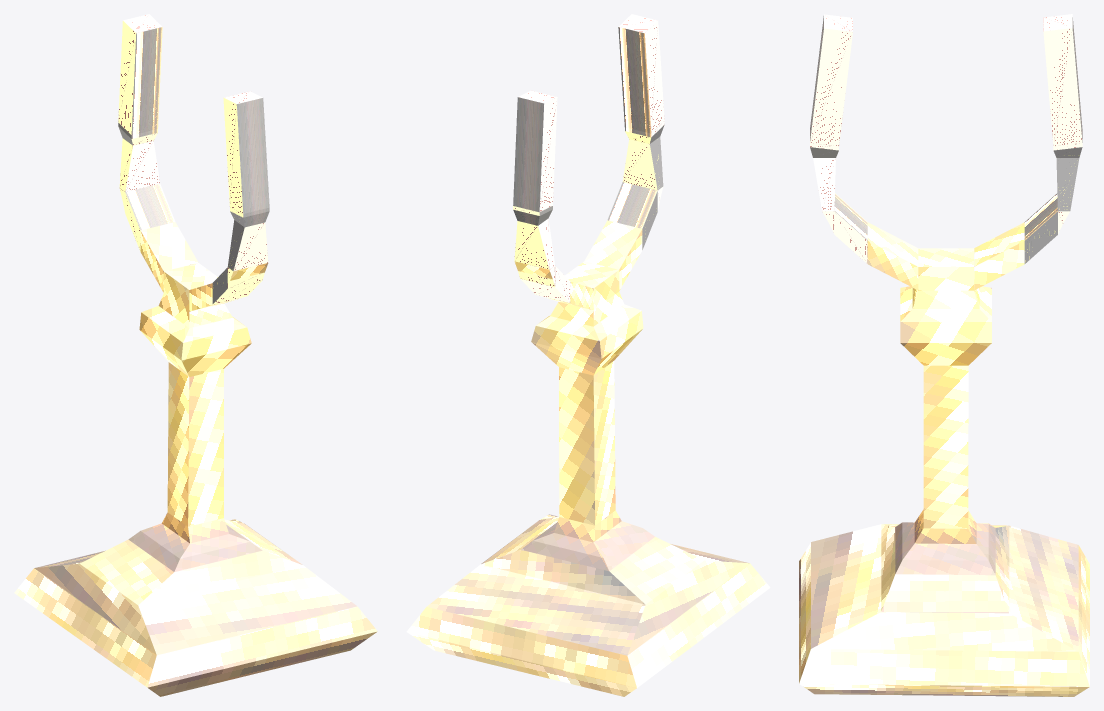
File: dik.glb
3 views of the same model, side by side, from view 1: azimuth 30°, elevation 25°; view 2: azimuth 150°, elevation 25°; view 3: azimuth 270°, elevation 25° (orthographic). The views are drawn at different scales.
Parts seen in each view (by area): view 1: Cube; view 2: Cube; view 3: Cube.
Part boxes in pixels (box(x1,y1,x2,y2)): Cube: box(14, 14, 377, 696); Cube: box(406, 14, 770, 696); Cube: box(799, 14, 1089, 696).
Bounding box in the file's own units: 1.69 × 4.15 × 1.69.
